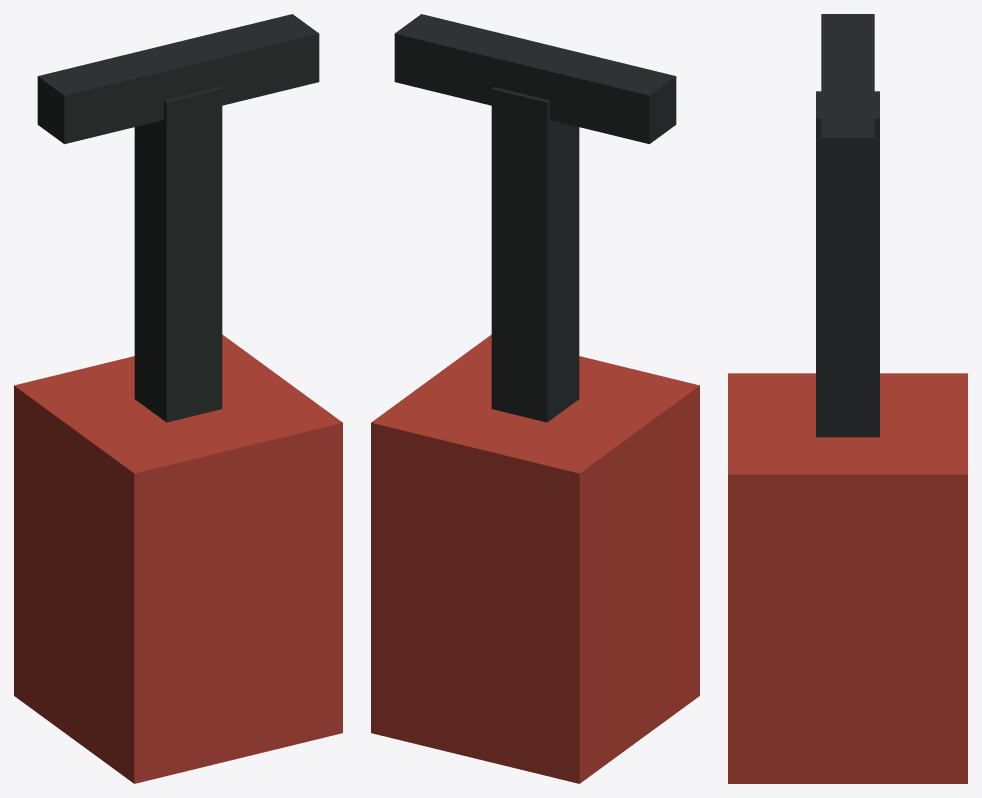
File: air_pump.glb
3 views of the same model, side by side, from view 1: azimuth 30°, elevation 25°; view 2: azimuth 150°, elevation 25°; view 3: azimuth 270°, elevation 25° (orthographic).
Visible parts, largest first — view 1: _MeshInstance3D_2, _MeshInstance3D_3, _MeshInstance3D_4; view 2: _MeshInstance3D_2, _MeshInstance3D_3, _MeshInstance3D_4; view 3: _MeshInstance3D_2, _MeshInstance3D_3, _MeshInstance3D_4.
Part boxes in pixels (box(x1,y1,x2,y2)): _MeshInstance3D_2: box(14, 334, 342, 783); _MeshInstance3D_3: box(134, 87, 222, 422); _MeshInstance3D_4: box(37, 14, 319, 144); _MeshInstance3D_2: box(371, 334, 699, 783); _MeshInstance3D_3: box(491, 87, 579, 422); _MeshInstance3D_4: box(394, 14, 676, 144); _MeshInstance3D_2: box(728, 373, 967, 783); _MeshInstance3D_3: box(816, 91, 879, 437); _MeshInstance3D_4: box(821, 14, 874, 186).
Bounding box in the file's own units: 0.55 × 1.36 × 0.45.
